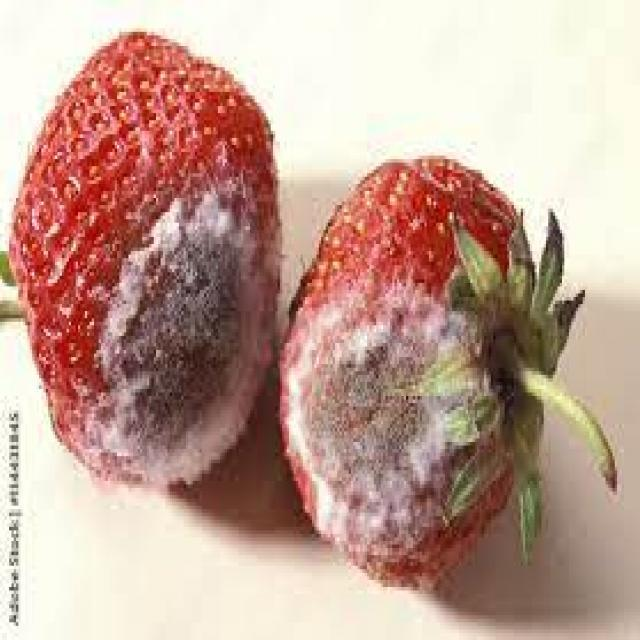Moho gris: (286, 150, 548, 590), (15, 42, 273, 488)
